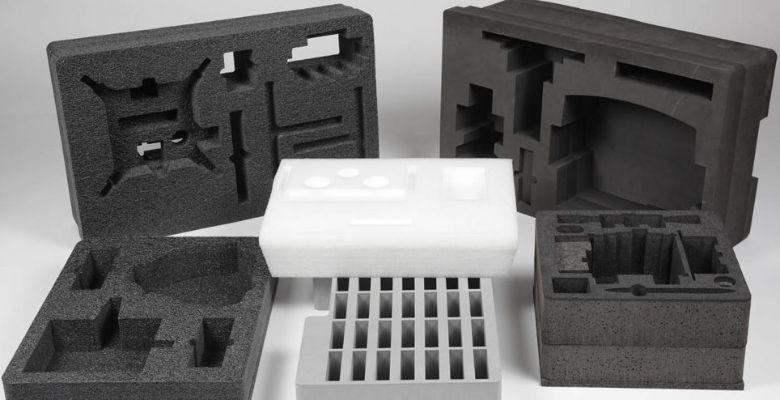Boxes: (440, 0, 776, 244), (46, 5, 379, 240), (2, 237, 272, 400), (534, 211, 750, 387), (259, 159, 517, 278)
